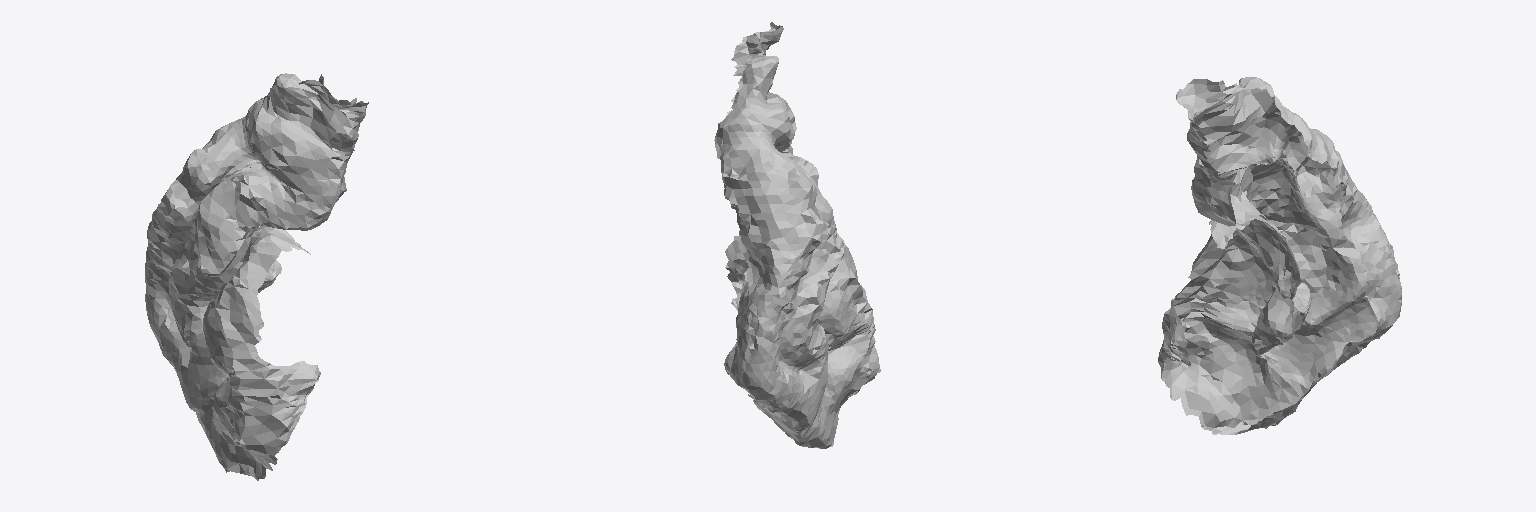
File: L_lingual.obj
3 views of the same model, side by side, from view 1: azimuth 30°, elevation 25°; view 2: azimuth 150°, elevation 25°; view 3: azimuth 270°, elevation 25° (orthographic).
Parts seen in each view (by area): view 1: L_lingual_R_lingual; view 2: L_lingual_R_lingual; view 3: L_lingual_R_lingual.
Boxes of the visible parts, box(x1,y1,x2,y2) form: L_lingual_R_lingual: box(145, 73, 368, 480); L_lingual_R_lingual: box(714, 22, 880, 448); L_lingual_R_lingual: box(1158, 77, 1401, 434).
Size of the model in its own units: 74.58 by 188 by 107.